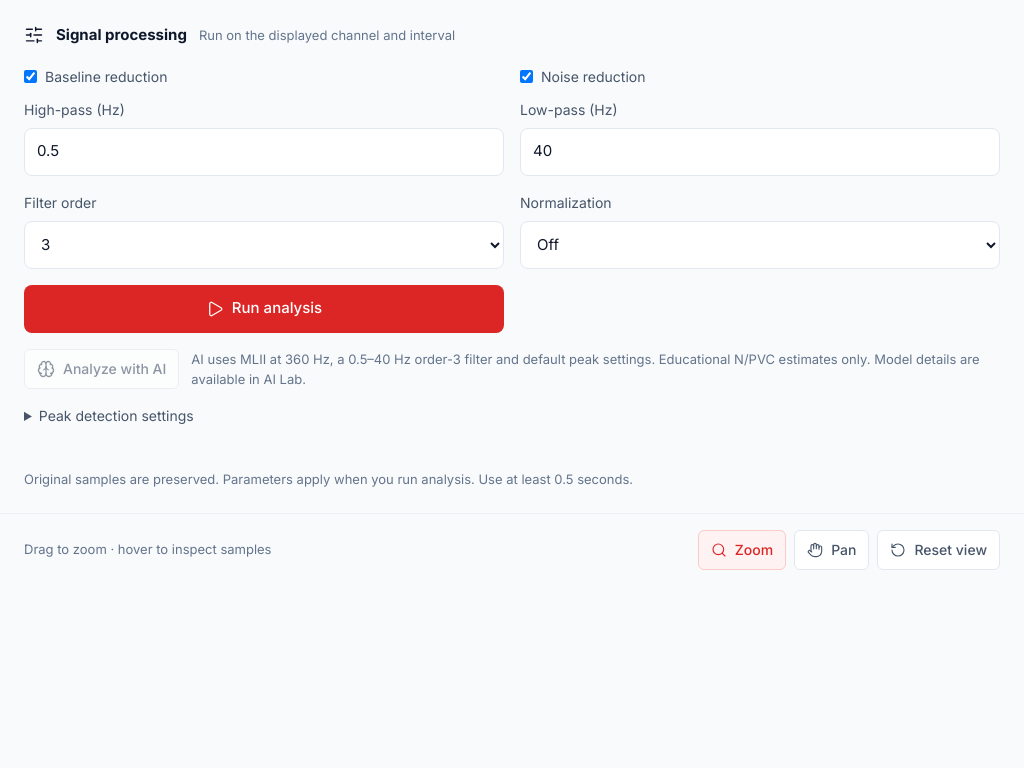
it: invalid cutoffs do not send analysis requests
Replace the text in the number field labelled "Low-pass (Hz)" with "50" at (760, 152), box [520,128,1000,176]
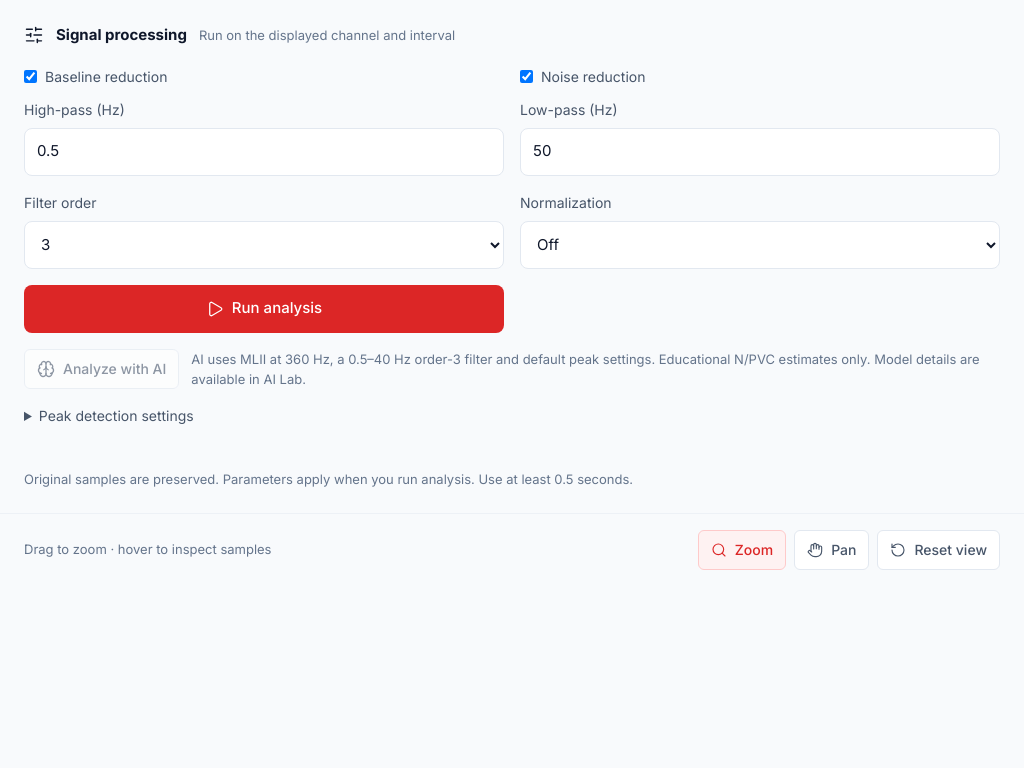
Submit the form named "ECG analysis controls"
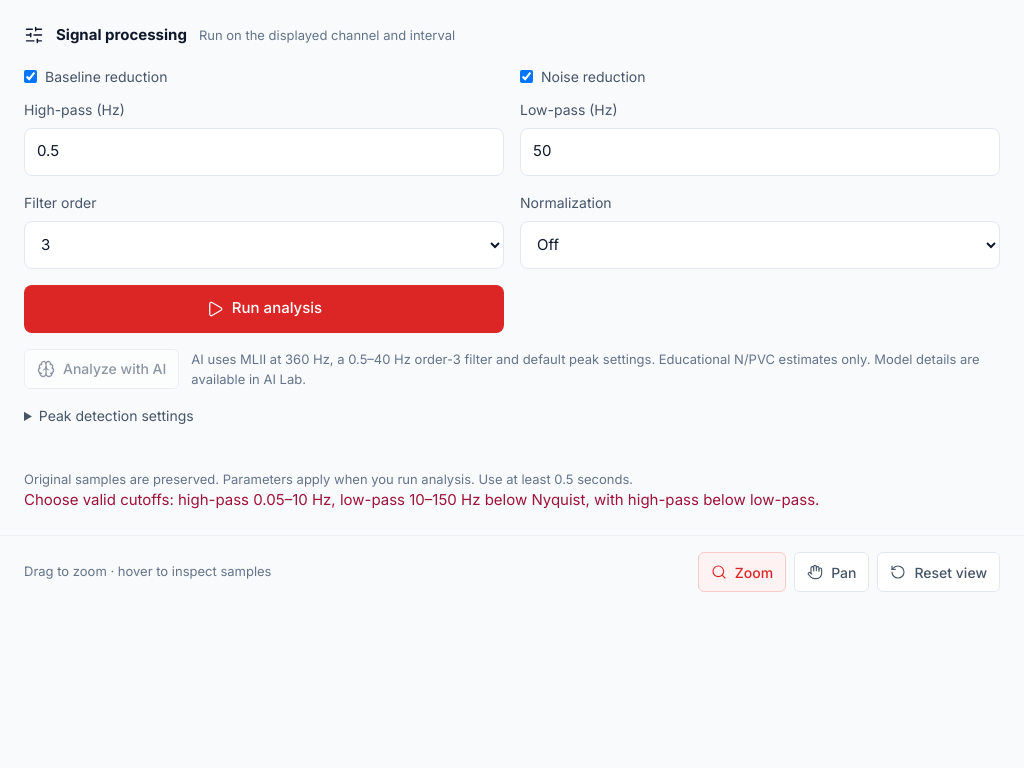
Check: the message shows "Nyquist", box [24,490,819,508]
